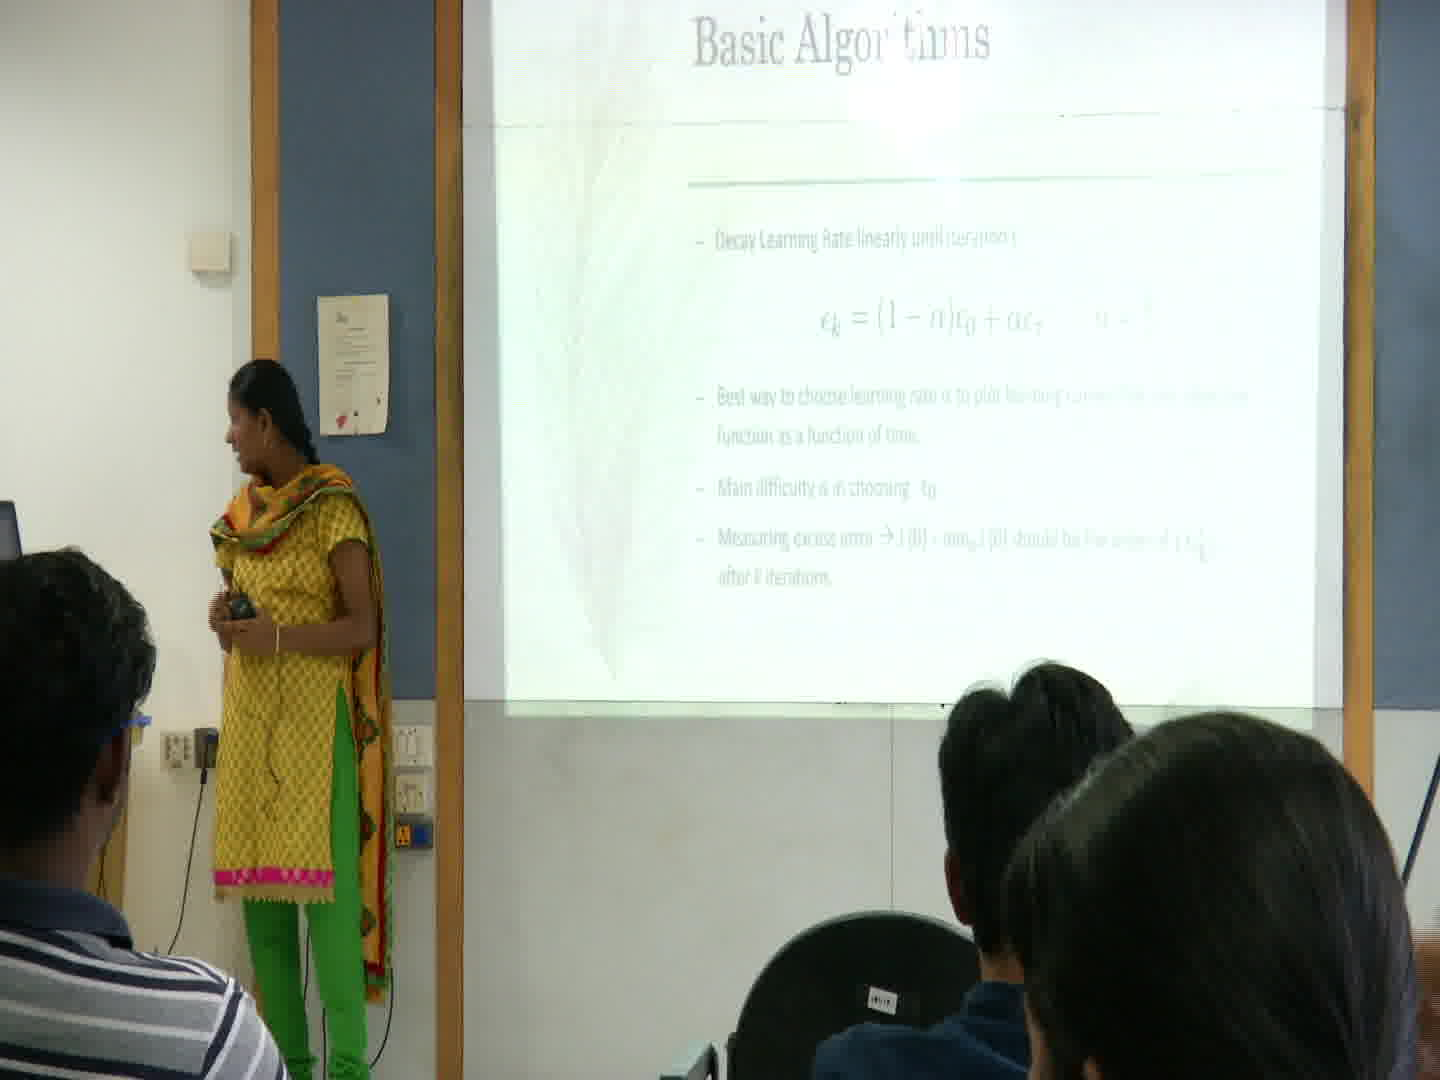eq: (815, 290, 1058, 347)
